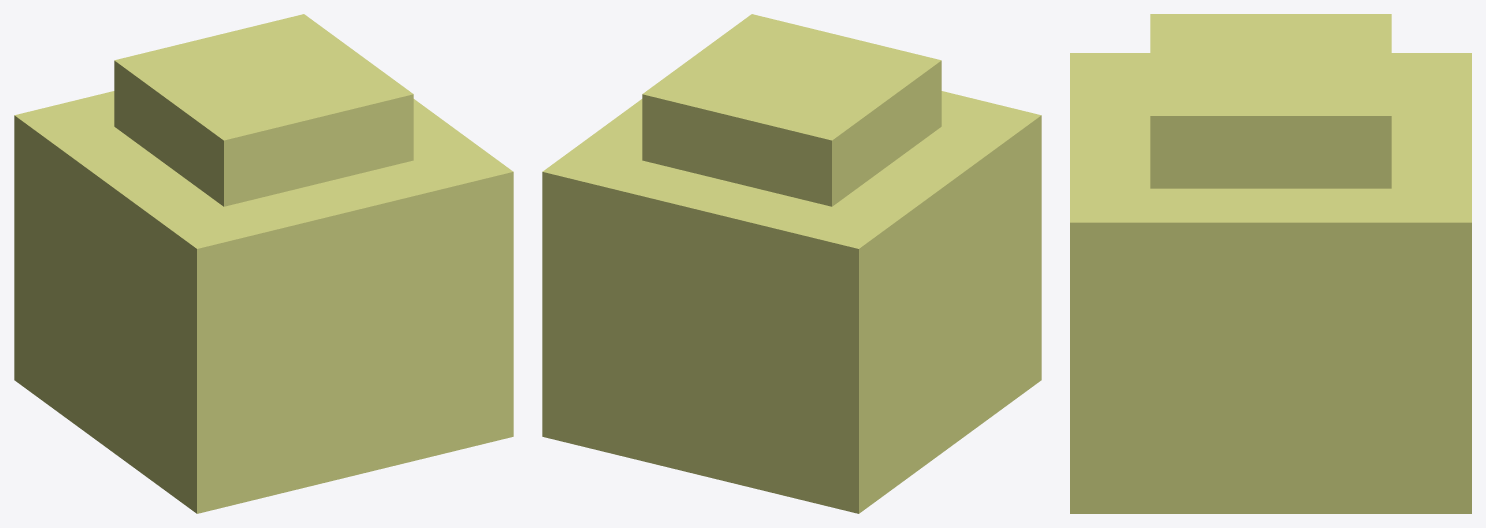
Rendered from Item_DS_Food_RoastSpud_V2.glb.
3 renders of one model, left to right at view 1: azimuth 30°, elevation 25°; view 2: azimuth 150°, elevation 25°; view 3: azimuth 270°, elevation 25°, orthographic. The views are drawn at different scales.
Visible parts, largest first — view 1: Cube, Cube.001; view 2: Cube, Cube.001; view 3: Cube, Cube.001.
Boxes of the visible parts, left/top/right/bottom form: Cube: left=14, top=91, right=513, bottom=513; Cube.001: left=114, top=14, right=413, bottom=206; Cube: left=542, top=91, right=1041, bottom=513; Cube.001: left=642, top=14, right=941, bottom=206; Cube: left=1070, top=53, right=1471, bottom=513; Cube.001: left=1150, top=14, right=1391, bottom=188.
Bounding box in the file's own units: 0.26 × 0.26 × 0.26.
